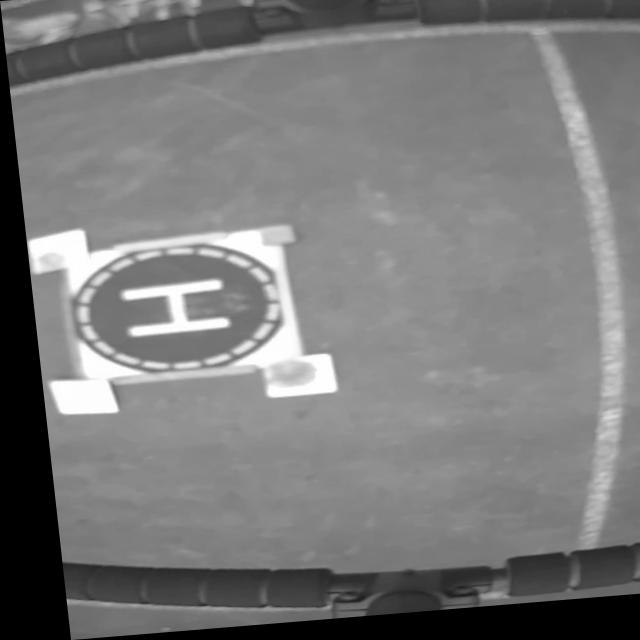Helipad: (113, 281, 223, 338)
